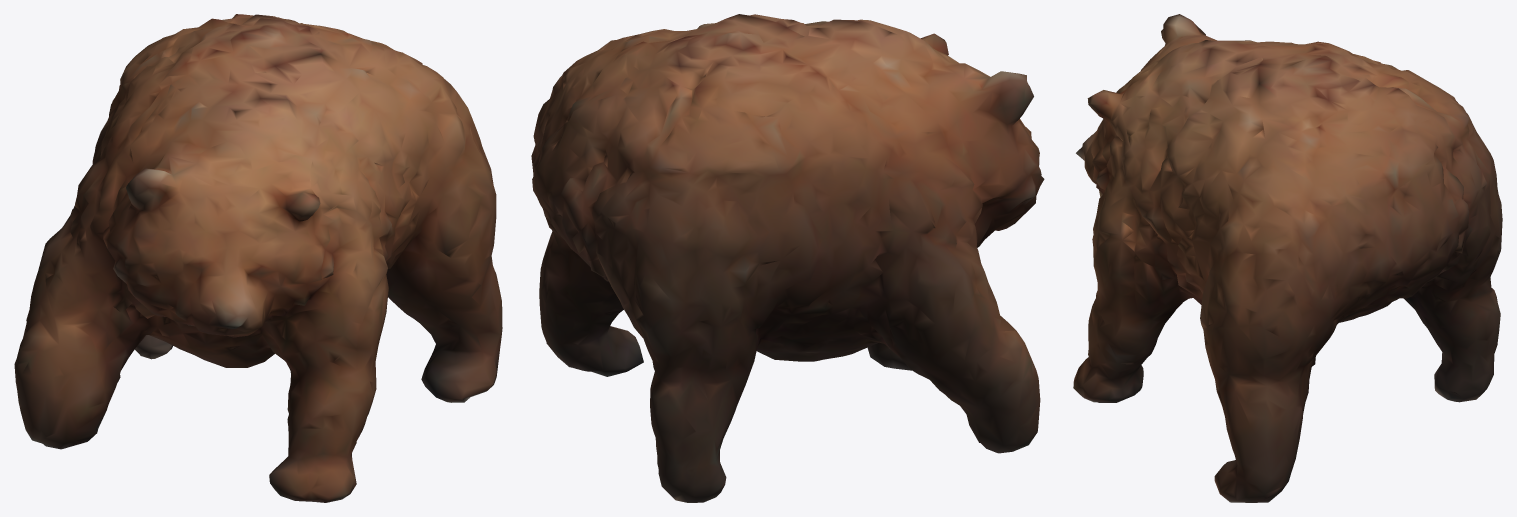
The model's file is bear.glb.
The picture shows the model from 3 angles, left to right: view 1: azimuth 30°, elevation 25°; view 2: azimuth 150°, elevation 25°; view 3: azimuth 270°, elevation 25°; orthographic projection. The views are drawn at different scales.
Visible parts, largest first — view 1: geometry_0; view 2: geometry_0; view 3: geometry_0.
Part boxes in pixels (x1=…): geometry_0: x1=14, y1=14, x2=502, y2=502; geometry_0: x1=531, y1=14, x2=1044, y2=502; geometry_0: x1=1073, y1=14, x2=1502, y2=502.
Size of the model in its own units: 0.9663 by 0.738 by 0.8044.
